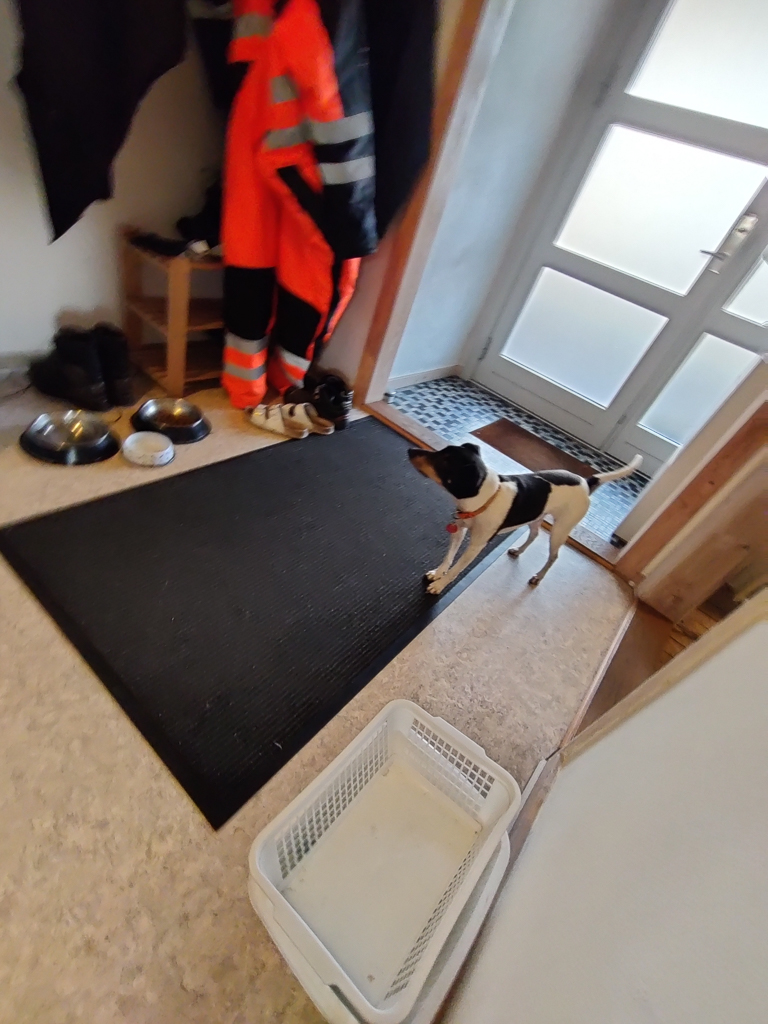Dog: (397, 424, 653, 615)
